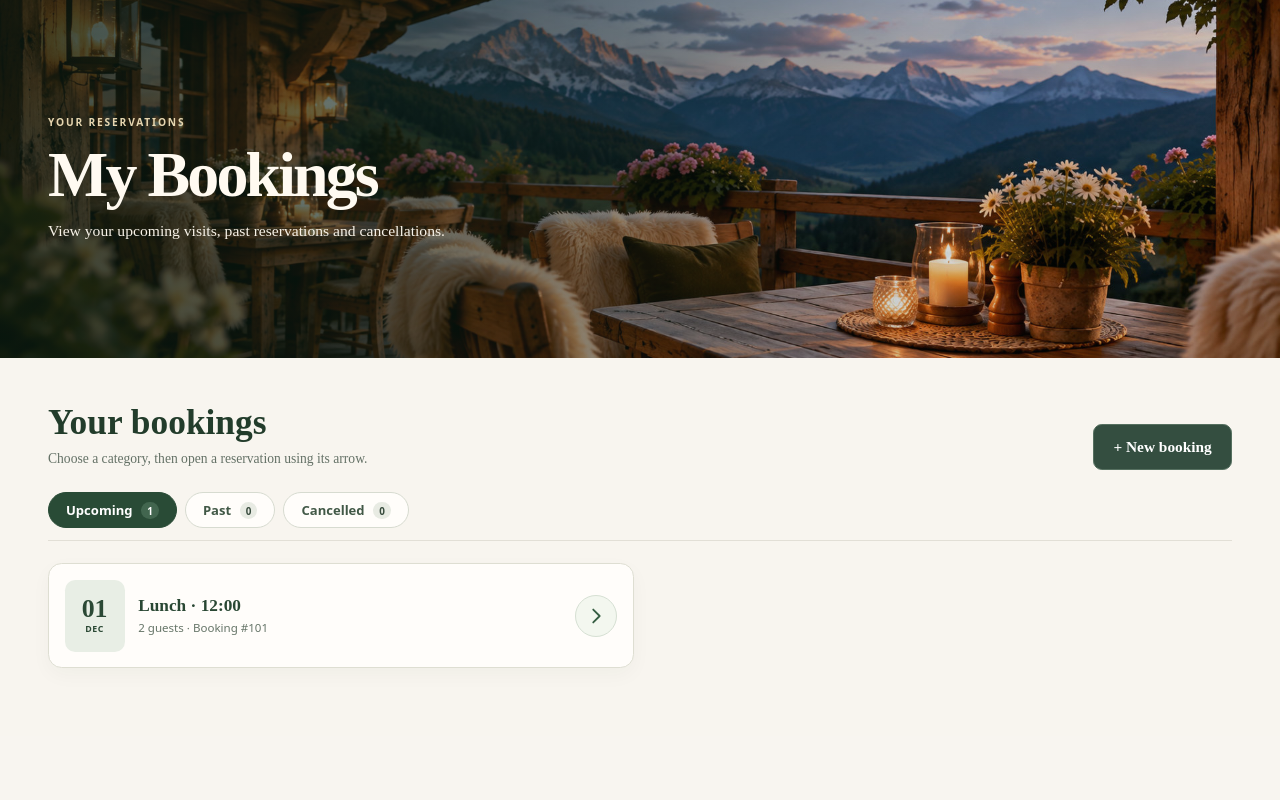
MyBookingsPage Component Integration Tests › allows switching between filters and displays empty state when no bookings exist in a category
The width and height of the screenshot is (1280, 800).
Expected: the button named "open booking #101" is shown, [575,594,617,636]
Switch to 'Cancelled' filter which is empty
Click the button "Cancelled 0".
click(346, 510)  # box [284,492,409,528]
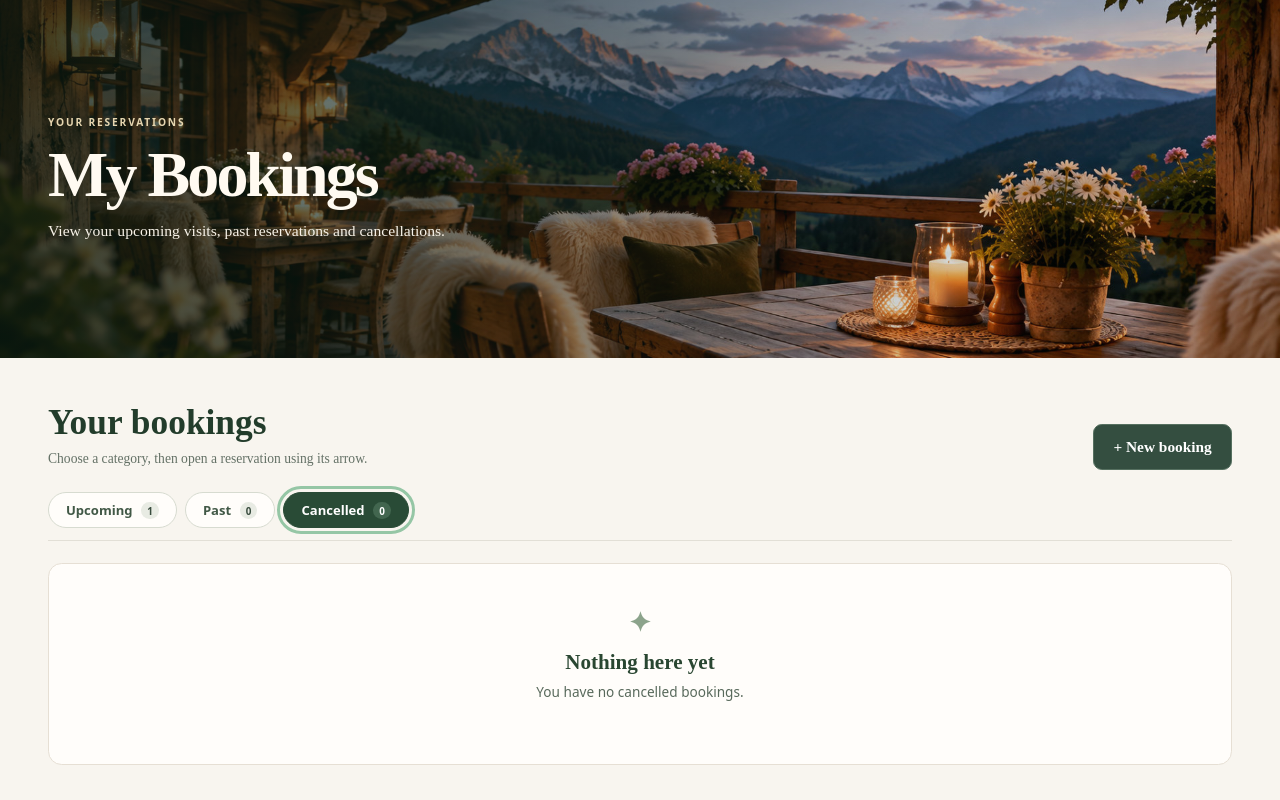
Now the heading "Nothing here yet" is shown, box [565,650,715,674]
Now the text "You have no cancelled bookings." is shown, box [536,682,744,701]
